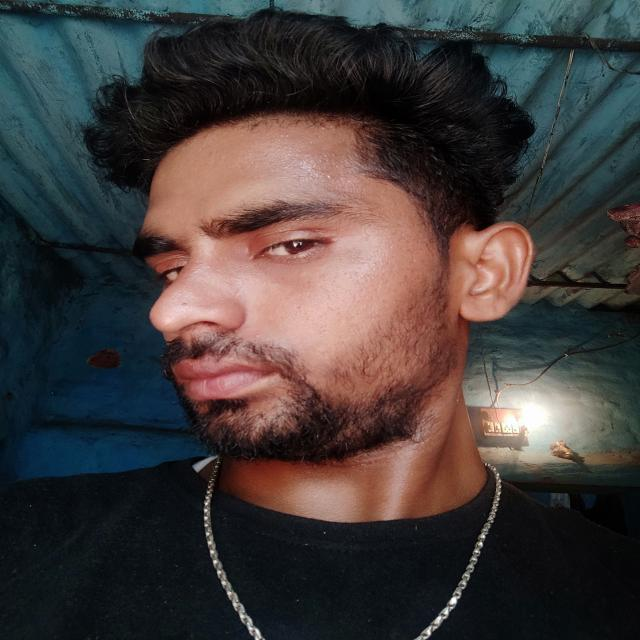Acne: (273, 134, 299, 140), (180, 302, 193, 310), (329, 173, 335, 181)
Englarged-Pores: (390, 316, 451, 346), (296, 294, 328, 336)
